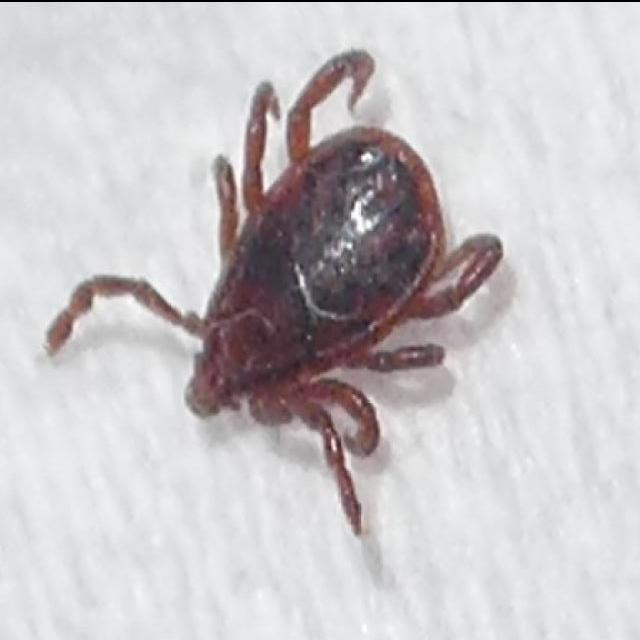Rhipicephalus Sanguineus-M: (44, 49, 506, 535)
